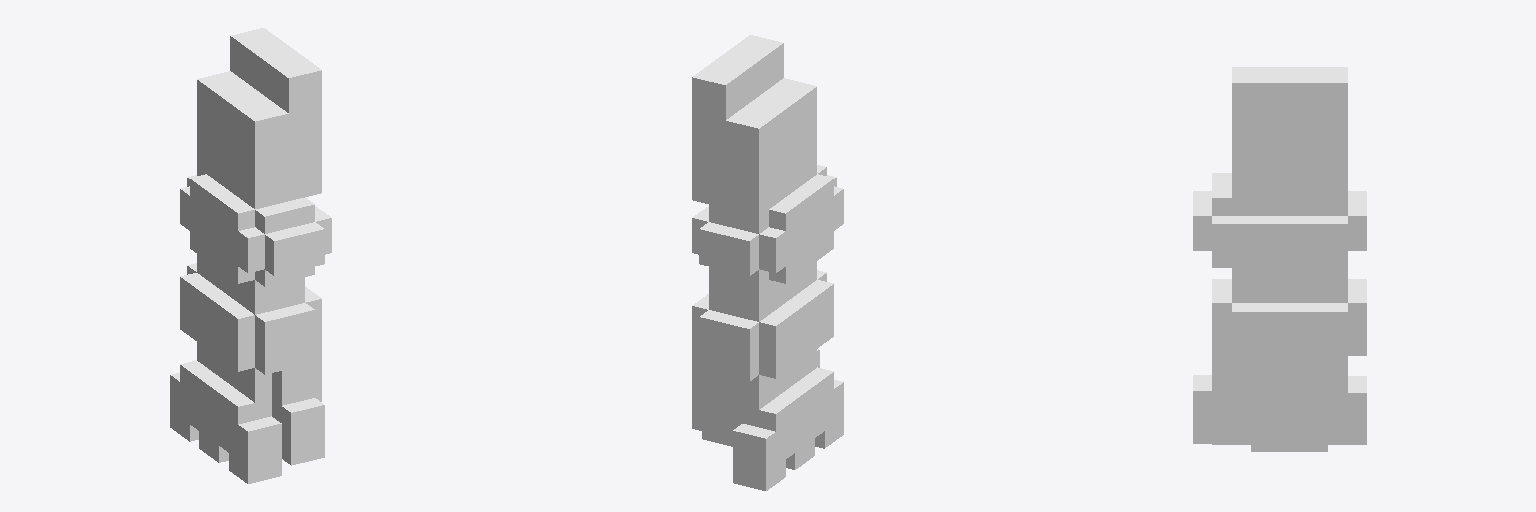
File: Френки-2.obj
The picture shows the model from 3 angles: view 1: azimuth 30°, elevation 25°; view 2: azimuth 150°, elevation 25°; view 3: azimuth 270°, elevation 25°; orthographic projection.
Visible parts, largest first — view 1: object 1; view 2: object 1; view 3: object 1.
Boxes of the visible parts, box(x1,y1,x2,y2) form: object 1: box(170, 28, 331, 483); object 1: box(692, 35, 843, 490); object 1: box(1193, 67, 1366, 451).
Size of the model in its own units: 0.5 by 2.2 by 0.9.